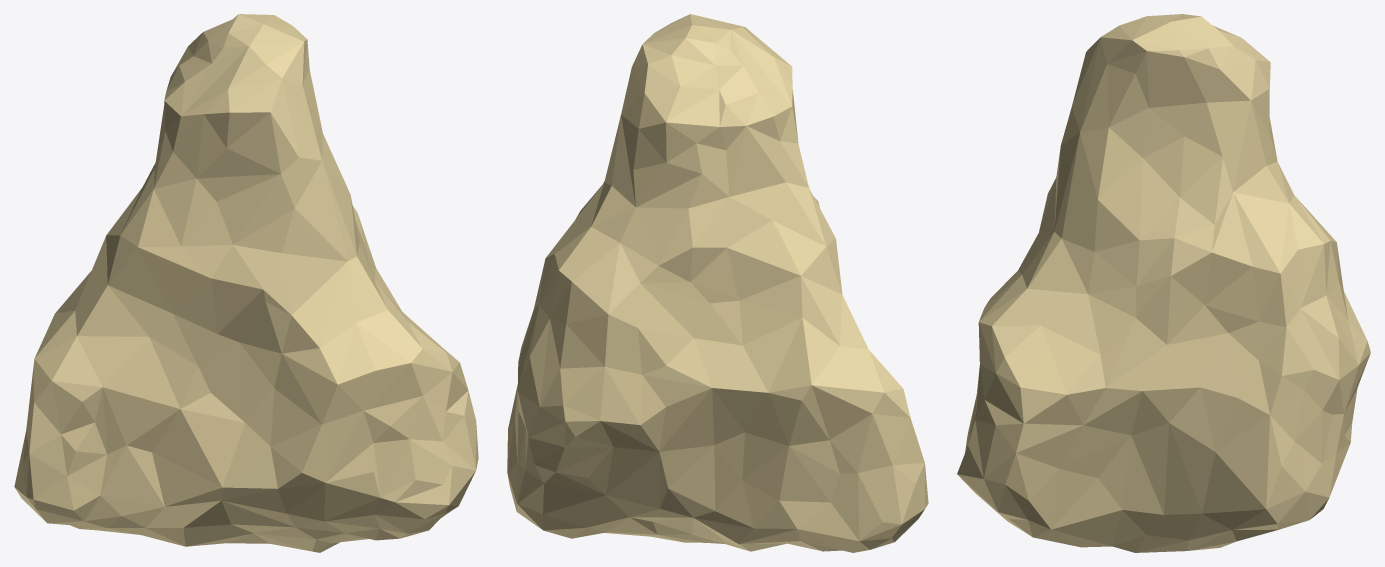
Rendered from Asteroid (21).fbx.
The picture shows the model from 3 angles, left to right: view 1: azimuth 30°, elevation 25°; view 2: azimuth 150°, elevation 25°; view 3: azimuth 270°, elevation 25°; orthographic projection. The views are drawn at different scales.
Visible parts, largest first — view 1: Asteroid174; view 2: Asteroid174; view 3: Asteroid174.
Boxes of the visible parts, x1,y1,x2,y2 form: Asteroid174: (14, 14, 478, 552); Asteroid174: (507, 14, 928, 552); Asteroid174: (957, 14, 1370, 552).
Bounding box in the file's own units: 205 × 276 × 203.
